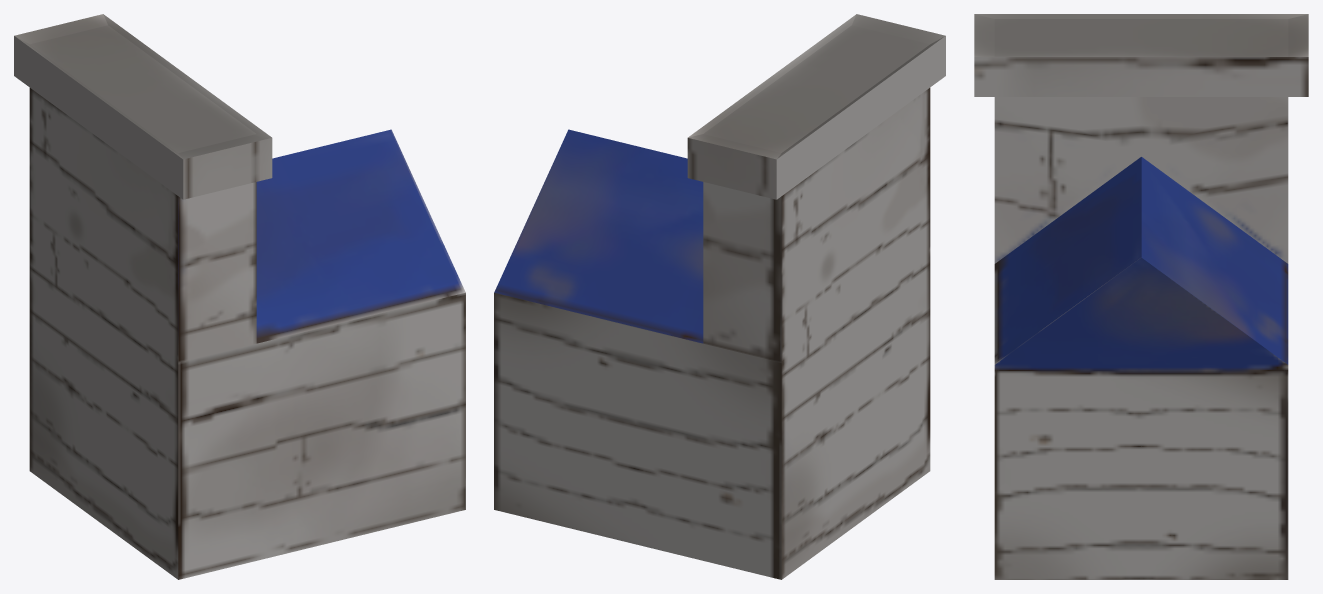
File: regularoldbuilding.obj
3 renders of one model, left to right at view 1: azimuth 30°, elevation 25°; view 2: azimuth 150°, elevation 25°; view 3: azimuth 270°, elevation 25°, orthographic.
Parts seen in each view (by area): view 1: Cube.004_Cube.000; view 2: Cube.004_Cube.000; view 3: Cube.004_Cube.000.
Boxes of the visible parts, left/top/right/bottom form: Cube.004_Cube.000: left=14, top=14, right=465, bottom=579; Cube.004_Cube.000: left=494, top=14, right=945, bottom=579; Cube.004_Cube.000: left=974, top=14, right=1308, bottom=579.
Bounding box in the file's own units: 8.66 × 12.14 × 8.66.
